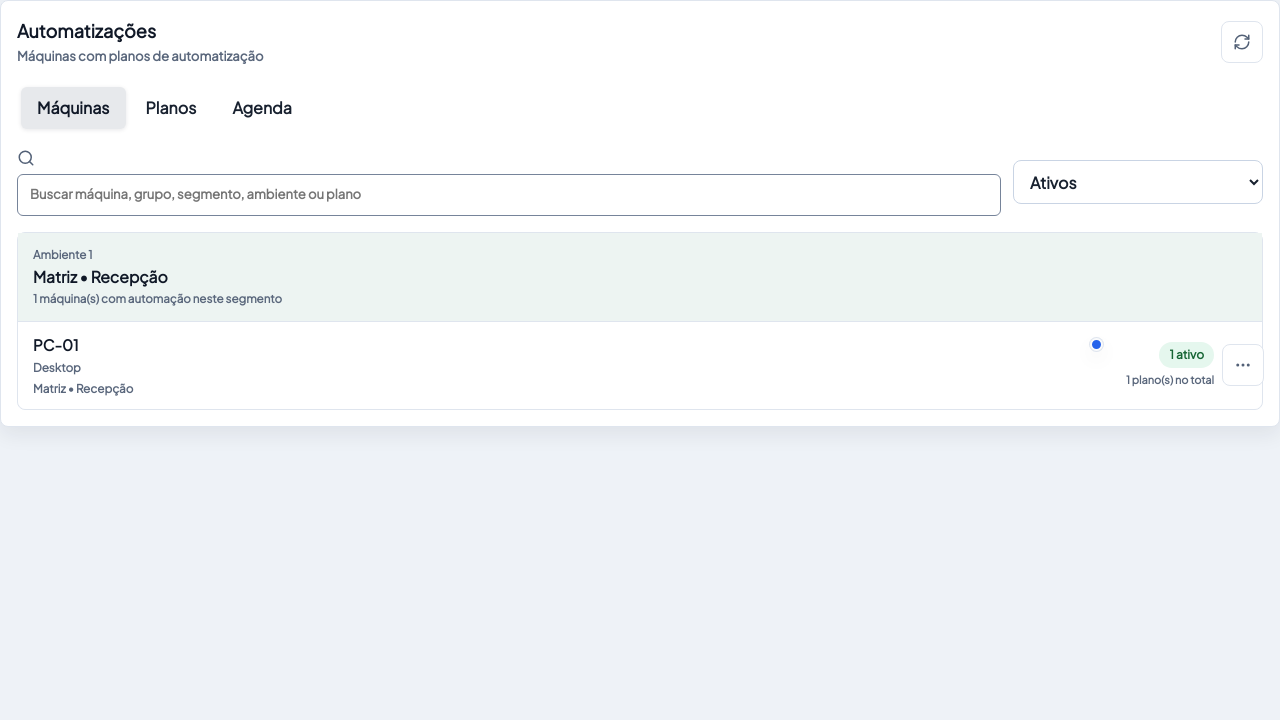
Test: AutomationManagementView - máquinas › abre o plano pelo indicador de cor da máquina
Click the button named "Limpeza mensal.": (1096,345) [1090,338,1103,351]
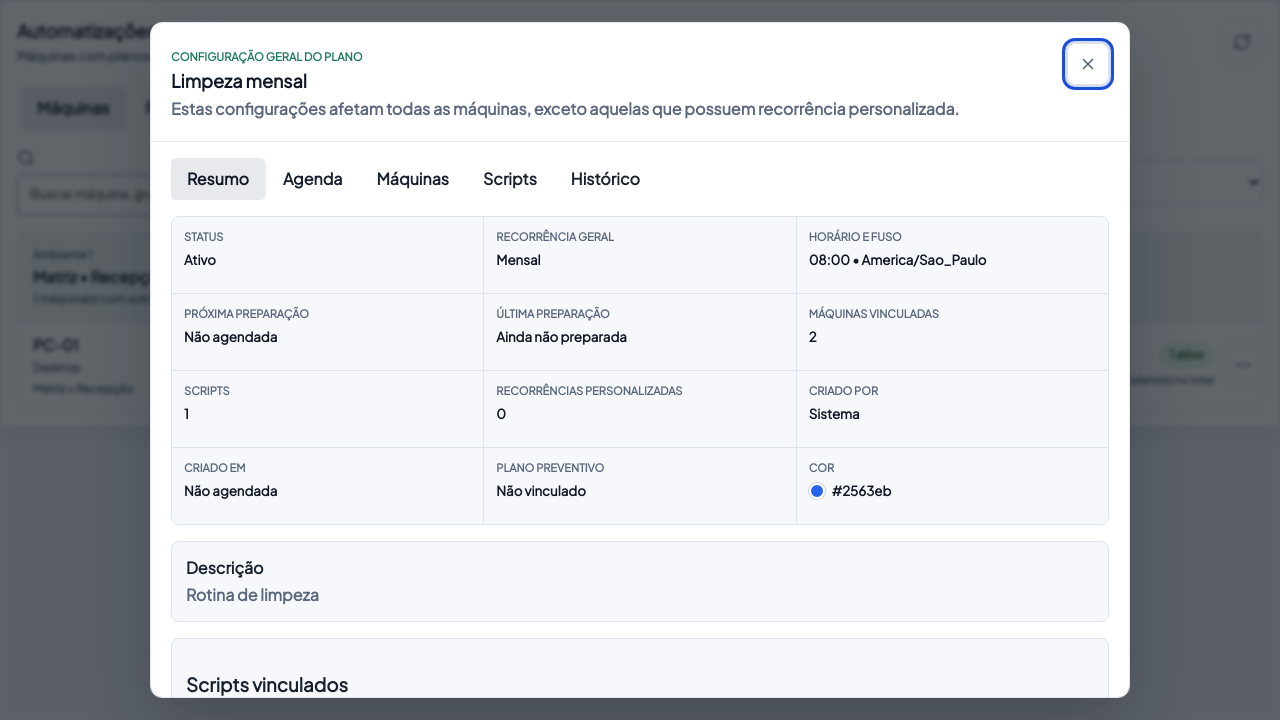
Expected: the dialog "Limpeza mensal" is shown
